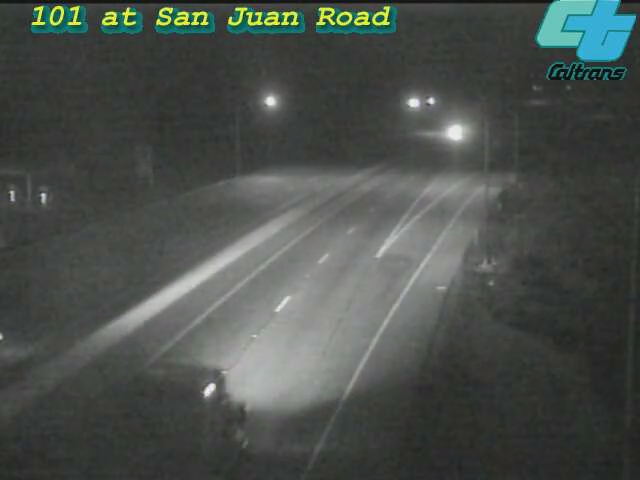vehicle: (91, 394, 201, 480), (430, 106, 480, 156)
